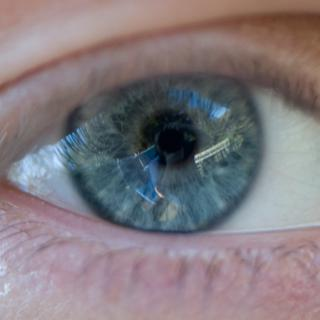pupil: (143, 111, 196, 165)
